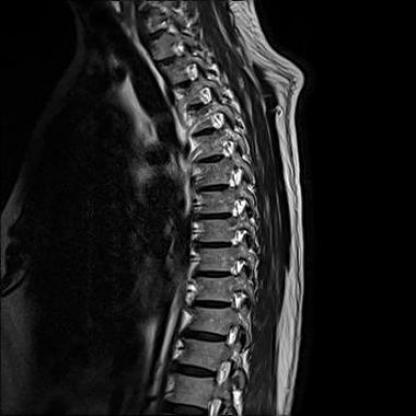Degenerative Disc Diseaserotation: (149, 26, 241, 416)
Osteophytesrotation: (149, 27, 241, 416)
